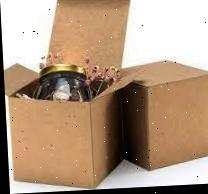cube: (113, 58, 208, 176)
